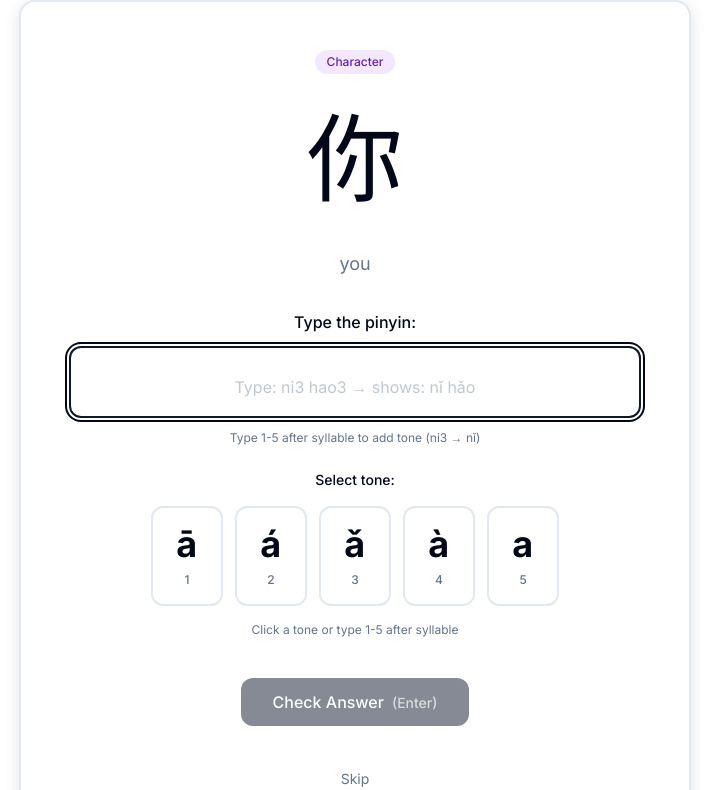
it: ReviewCard › Tone Button Usage › applies tone when button is clicked
The width and height of the screenshot is (711, 790).
Type "ni" into the field at [355, 382], box [69, 346, 641, 418]
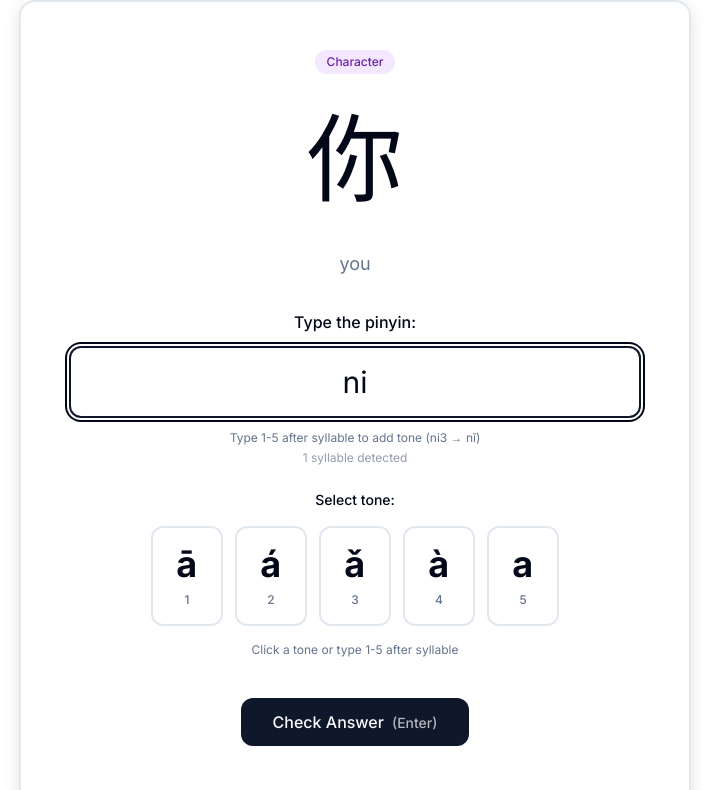
Click tone 3 button
Click the button named "tone 3" at [355, 576], box [319, 526, 391, 626]
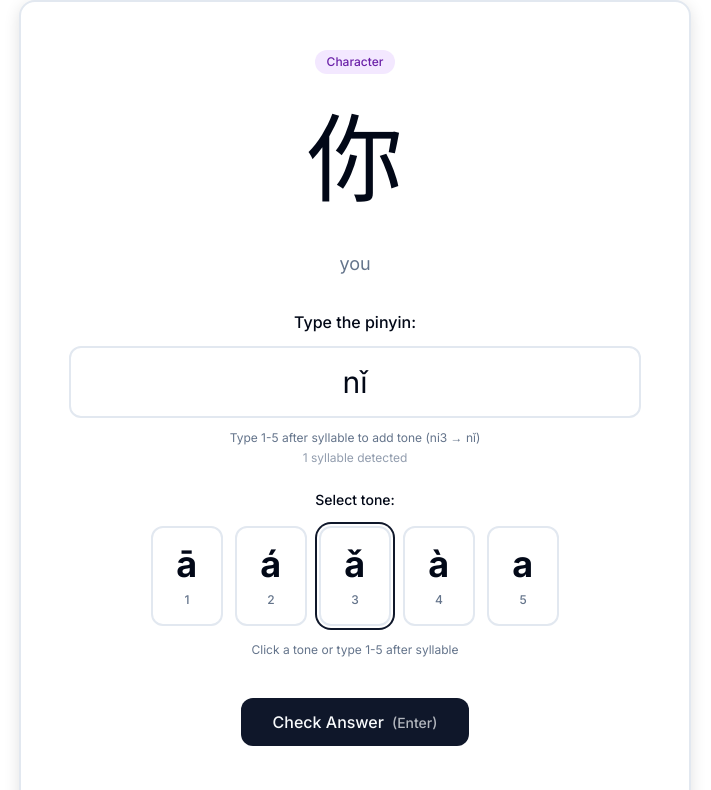
Result: the field holds "nǐ" at [69, 346, 641, 418]
